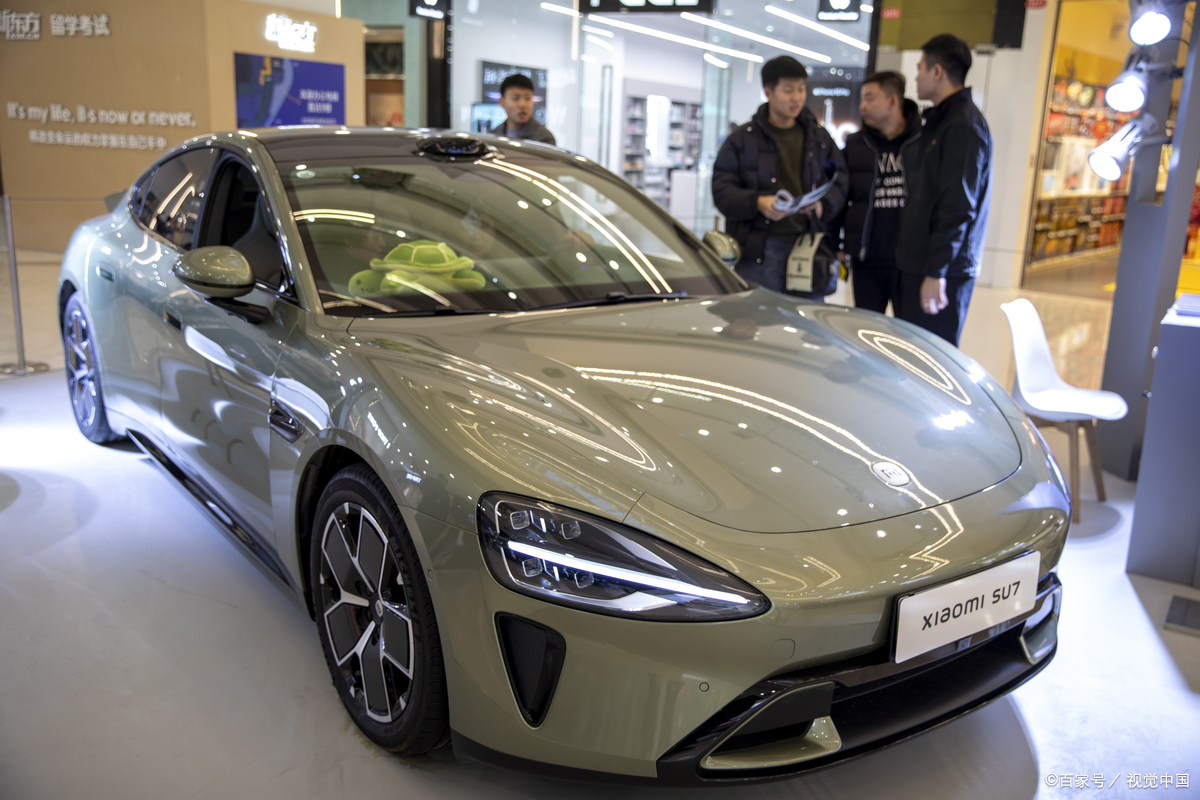su7: (59, 132, 1085, 791)
